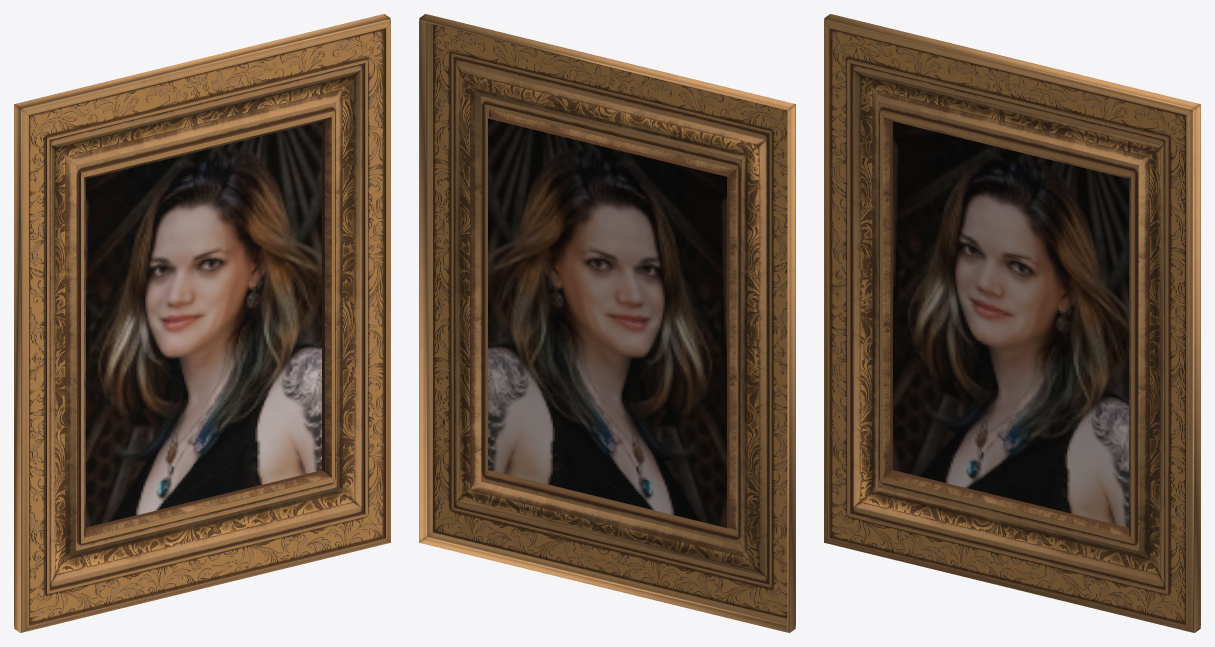
File: Author Portrait.fbx
3 renders of one model, left to right at view 1: azimuth 30°, elevation 25°; view 2: azimuth 150°, elevation 25°; view 3: azimuth 330°, elevation 25°, orthographic.
Visible parts, largest first — view 1: Frame; view 2: Frame; view 3: Frame.
Boxes of the visible parts, box(x1,y1,x2,y2) form: Frame: box(14, 14, 390, 632); Frame: box(419, 14, 795, 632); Frame: box(824, 14, 1200, 632).
Size of the model in its own units: 126 by 170 by 5.79.
